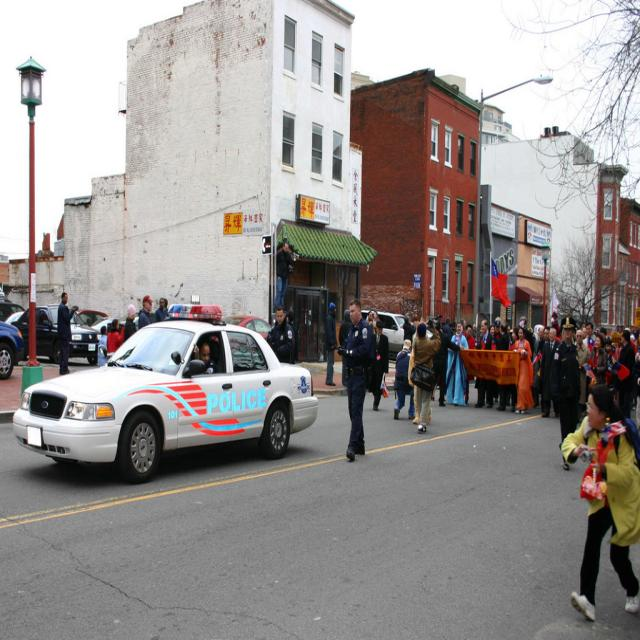car: (12, 300, 320, 479)
